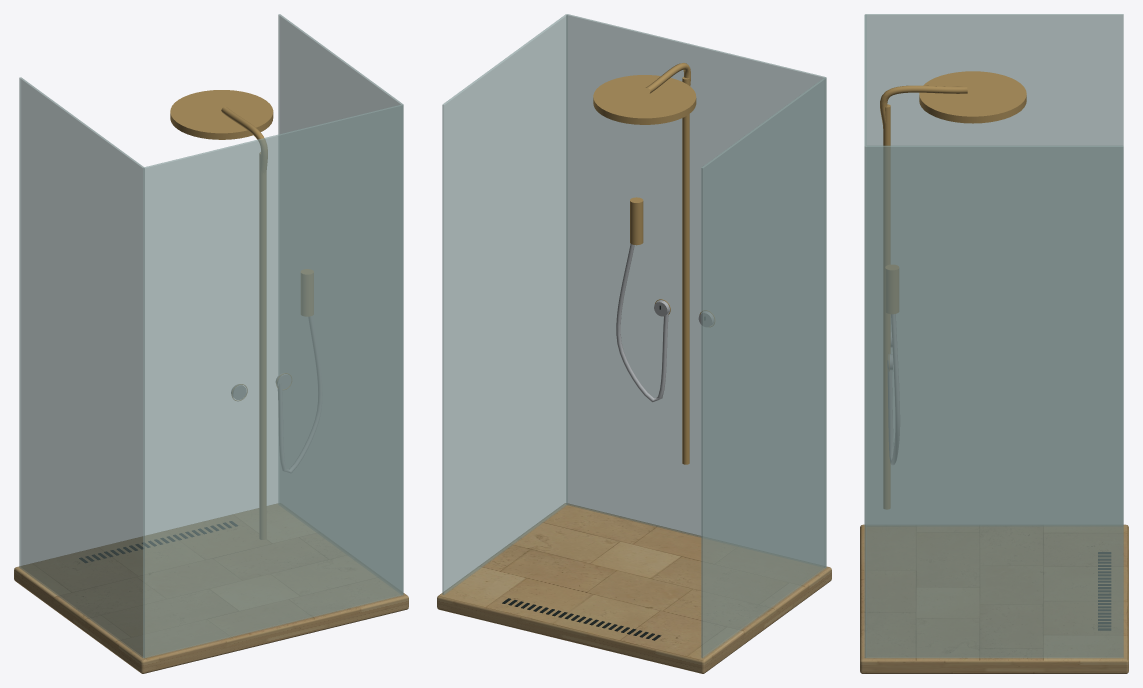
Rendered from luxury-walkin-shower.glb.
3 renders of one model, left to right at view 1: azimuth 30°, elevation 25°; view 2: azimuth 150°, elevation 25°; view 3: azimuth 270°, elevation 25°, orthographic. The views are drawn at different scales.
Parts seen in each view (by area): view 1: glass_3, glass_1, glass_2, stone_0, bronze_4, steel_68; view 2: glass_3, glass_2, glass_1, stone_0, bronze_4, steel_68, dark_7; view 3: glass_2, glass_1, stone_0, bronze_4, glass_3, steel_68, dark_7.
Boxes of the visible parts, left/top/right/bottom form: glass_3: left=143, top=104, right=403, bottom=658; glass_1: left=19, top=77, right=144, bottom=657; glass_2: left=278, top=14, right=403, bottom=594; stone_0: left=14, top=503, right=408, bottom=673; bronze_4: left=170, top=90, right=313, bottom=539; steel_68: left=231, top=316, right=322, bottom=472; glass_3: left=566, top=14, right=826, bottom=567; glass_2: left=442, top=14, right=567, bottom=594; glass_1: left=701, top=77, right=826, bottom=657; stone_0: left=437, top=503, right=831, bottom=673; bronze_4: left=593, top=63, right=714, bottom=464; steel_68: left=616, top=244, right=713, bottom=402; dark_7: left=502, top=305, right=705, bottom=640; glass_2: left=865, top=145, right=1123, bottom=657; glass_1: left=865, top=14, right=1123, bottom=525; stone_0: left=860, top=524, right=1128, bottom=673; bronze_4: left=880, top=71, right=1026, bottom=509; glass_3: left=864, top=14, right=866, bottom=657; steel_68: left=887, top=314, right=899, bottom=464; dark_7: left=1098, top=552, right=1110, bottom=630.
Size of the model in its own units: 1.2 by 2.16 by 1.
Materials: 5 (1 with a texture image).
